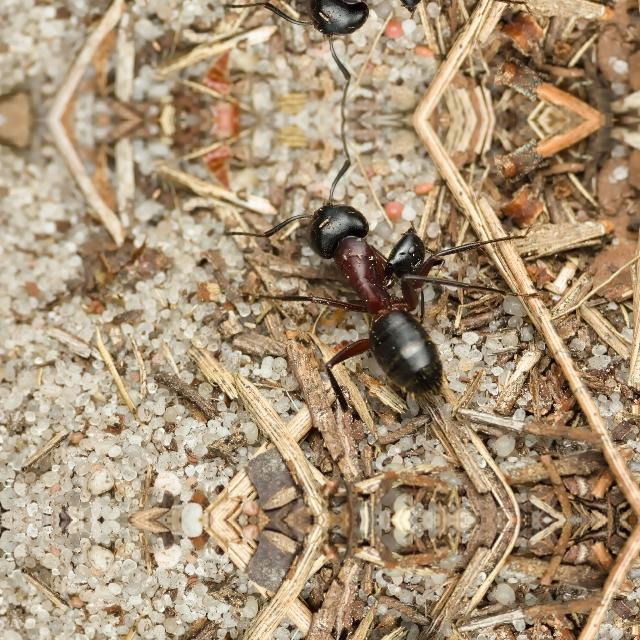Camponotus: (252, 174, 494, 408), (251, 0, 494, 66), (363, 201, 435, 299), (363, 0, 435, 38)
